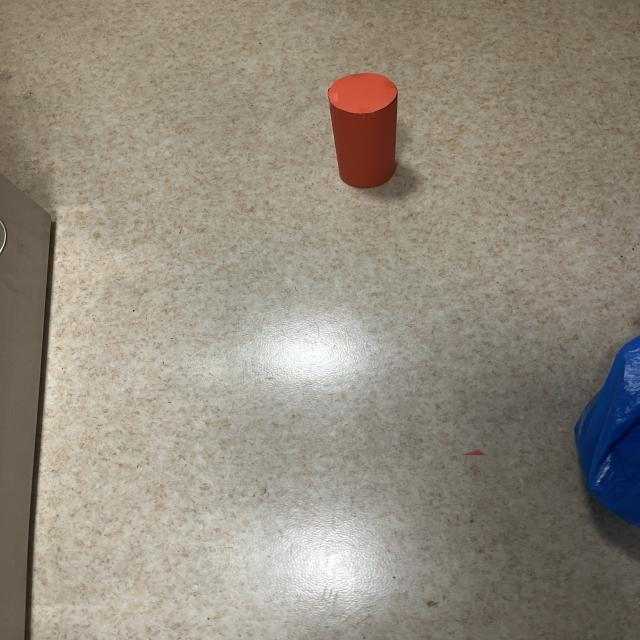przeszkoda: (328, 73, 397, 188)
